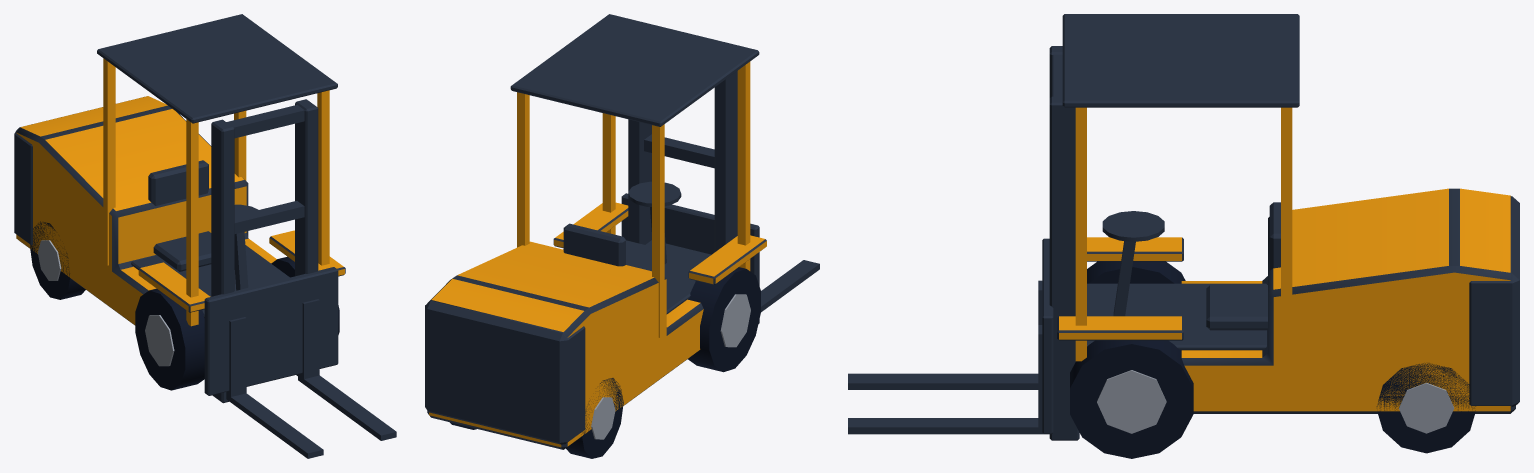
The model's file is forklift.glb.
3 renders of one model, left to right at view 1: azimuth 30°, elevation 25°; view 2: azimuth 150°, elevation 25°; view 3: azimuth 270°, elevation 25°, orthographic. The views are drawn at different scales.
Visible parts, largest first — view 1: forklift; view 2: forklift; view 3: forklift.
Part boxes in pixels (x1,y1,x2,y2): forklift: [14, 14, 396, 458]; forklift: [425, 14, 819, 458]; forklift: [848, 14, 1519, 458].
Bounding box in the file's own units: 1.2 × 2.1 × 3.6.
